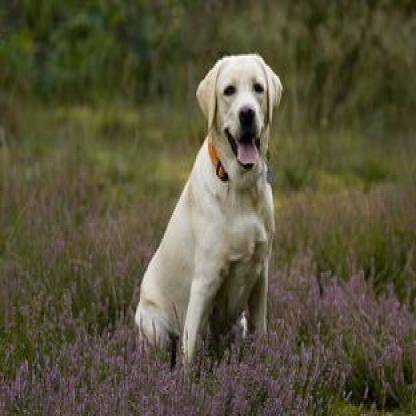Labarador Retriever: (137, 54, 286, 366)
